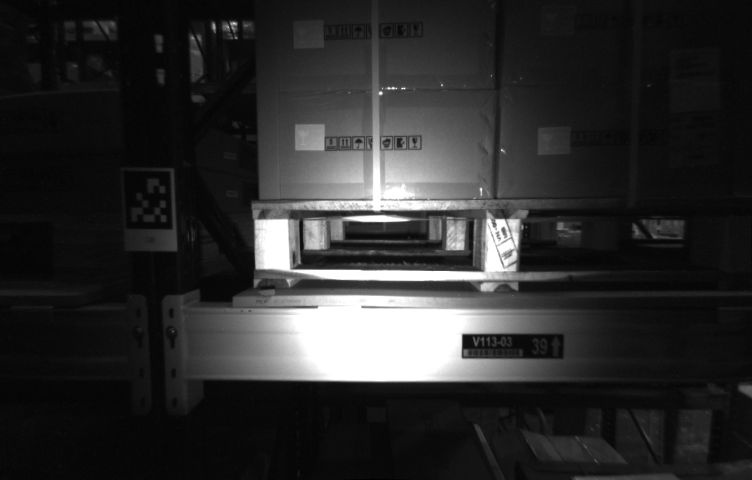True Barcode: (668, 113, 720, 174)
